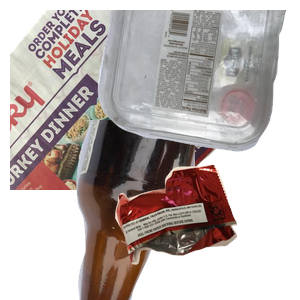glass: (60, 120, 300, 300)
paper: (10, 10, 247, 190)
plastic: (95, 10, 300, 154)
trash: (113, 162, 300, 300)
